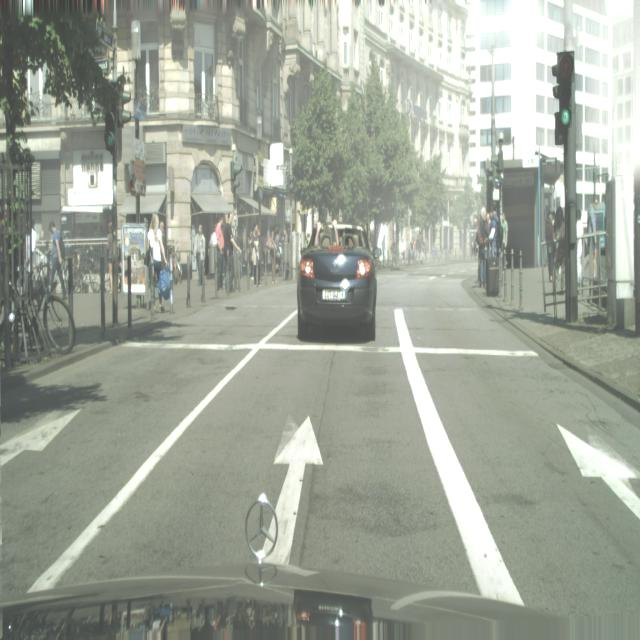car: (8, 256, 75, 364)
person: (148, 212, 169, 318), (485, 204, 505, 299), (47, 220, 68, 299), (475, 207, 490, 288), (553, 203, 565, 281), (223, 212, 234, 292), (193, 223, 206, 286), (545, 209, 555, 282), (216, 215, 225, 292), (501, 212, 508, 263)
truck: (296, 220, 378, 343)
